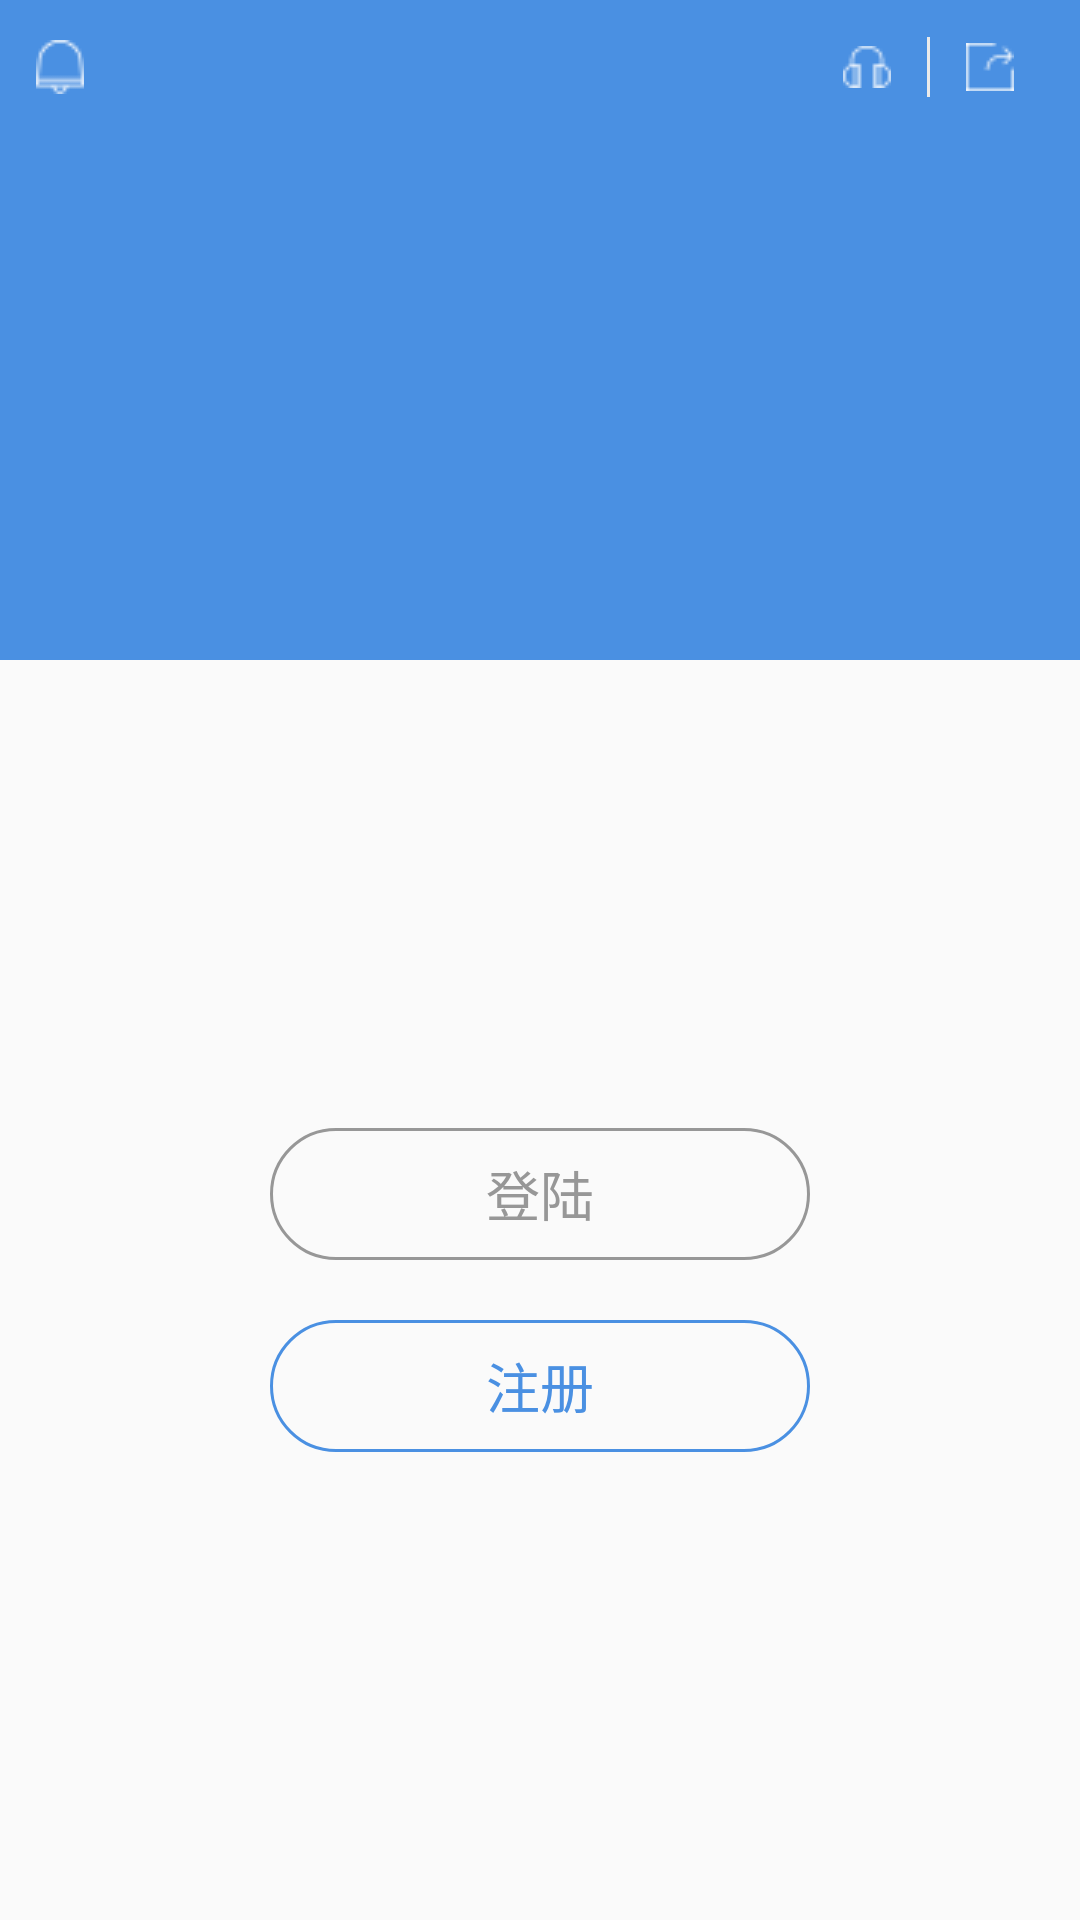

Screen size 1080 x 1920. Icon name, then its center in pixels as (x,y):
bell: (60,67)
headphones: (867,67)
share: (990,67)
